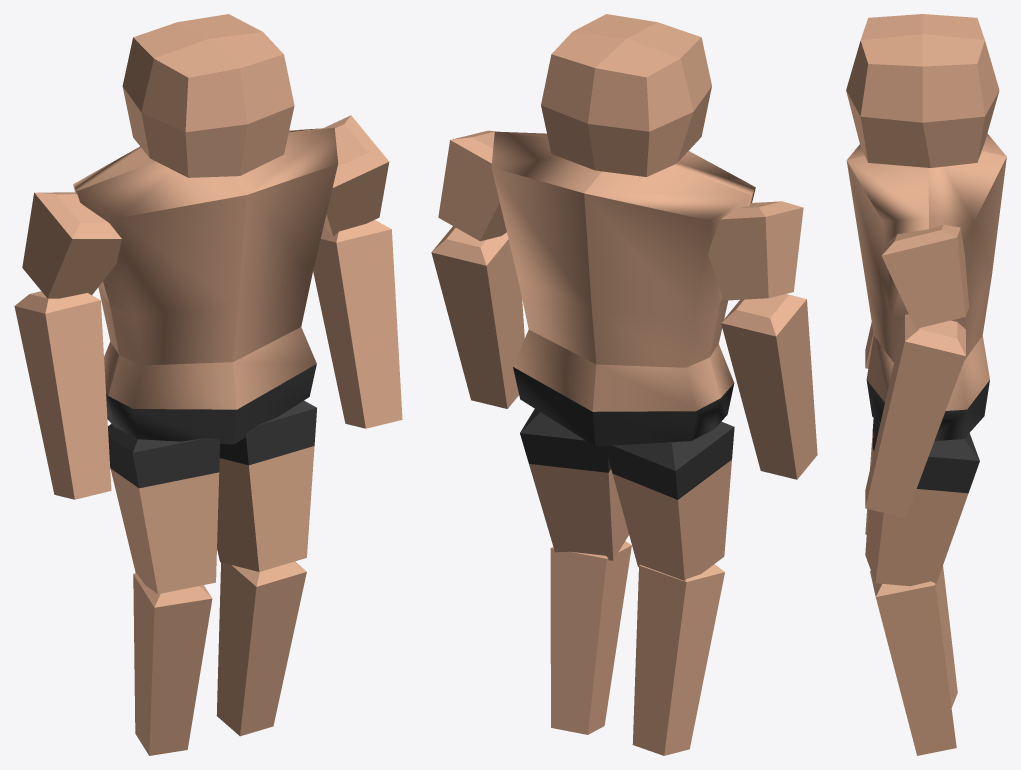
The model's file is man_fixed.fbx.
3 views of the same model, side by side, from view 1: azimuth 30°, elevation 25°; view 2: azimuth 150°, elevation 25°; view 3: azimuth 270°, elevation 25° (orthographic).
Parts seen in each view (by area): view 1: Cube, Cube.003, Cube.002, Cube.008, Cube.007, Cube.006, Cube.010, Cube.009, Cube.001, Cube.004; view 2: Cube, Cube.003, Cube.008, Cube.009, Cube.002, Cube.010, Cube.007, Cube.006, Cube.001, Cube.004; view 3: Cube, Cube.003, Cube.007, Cube.006, Cube.010, Cube.004, Cube.009.
Part boxes in pixels (<box>): Cube: <box>73,127,338,444</box>; Cube.003: <box>122,14,294,177</box>; Cube.002: <box>14,291,111,499</box>; Cube.008: <box>108,424,220,593</box>; Cube.007: <box>313,220,402,428</box>; Cube.006: <box>217,400,316,571</box>; Cube.010: <box>216,561,306,736</box>; Cube.009: <box>133,573,212,755</box>; Cube.001: <box>22,192,121,298</box>; Cube.004: <box>323,115,389,236</box>; Cube: <box>491,131,755,446</box>; Cube.003: <box>541,14,711,176</box>; Cube.008: <box>606,421,734,580</box>; Cube.009: <box>632,564,724,755</box>; Cube.002: <box>721,294,817,479</box>; Cube.010: <box>550,541,631,734</box>; Cube.007: <box>431,226,524,408</box>; Cube.006: <box>520,409,628,560</box>; Cube.001: <box>708,201,803,300</box>; Cube.004: <box>438,130,506,241</box>; Cube: <box>846,133,1006,440</box>; Cube.003: <box>846,14,999,167</box>; Cube.007: <box>865,314,965,517</box>; Cube.006: <box>865,416,979,586</box>; Cube.010: <box>870,571,956,755</box>; Cube.004: <box>881,225,969,328</box>; Cube.009: <box>935,566,957,707</box>.
Size of the model in its own units: 282 by 544 by 115.
